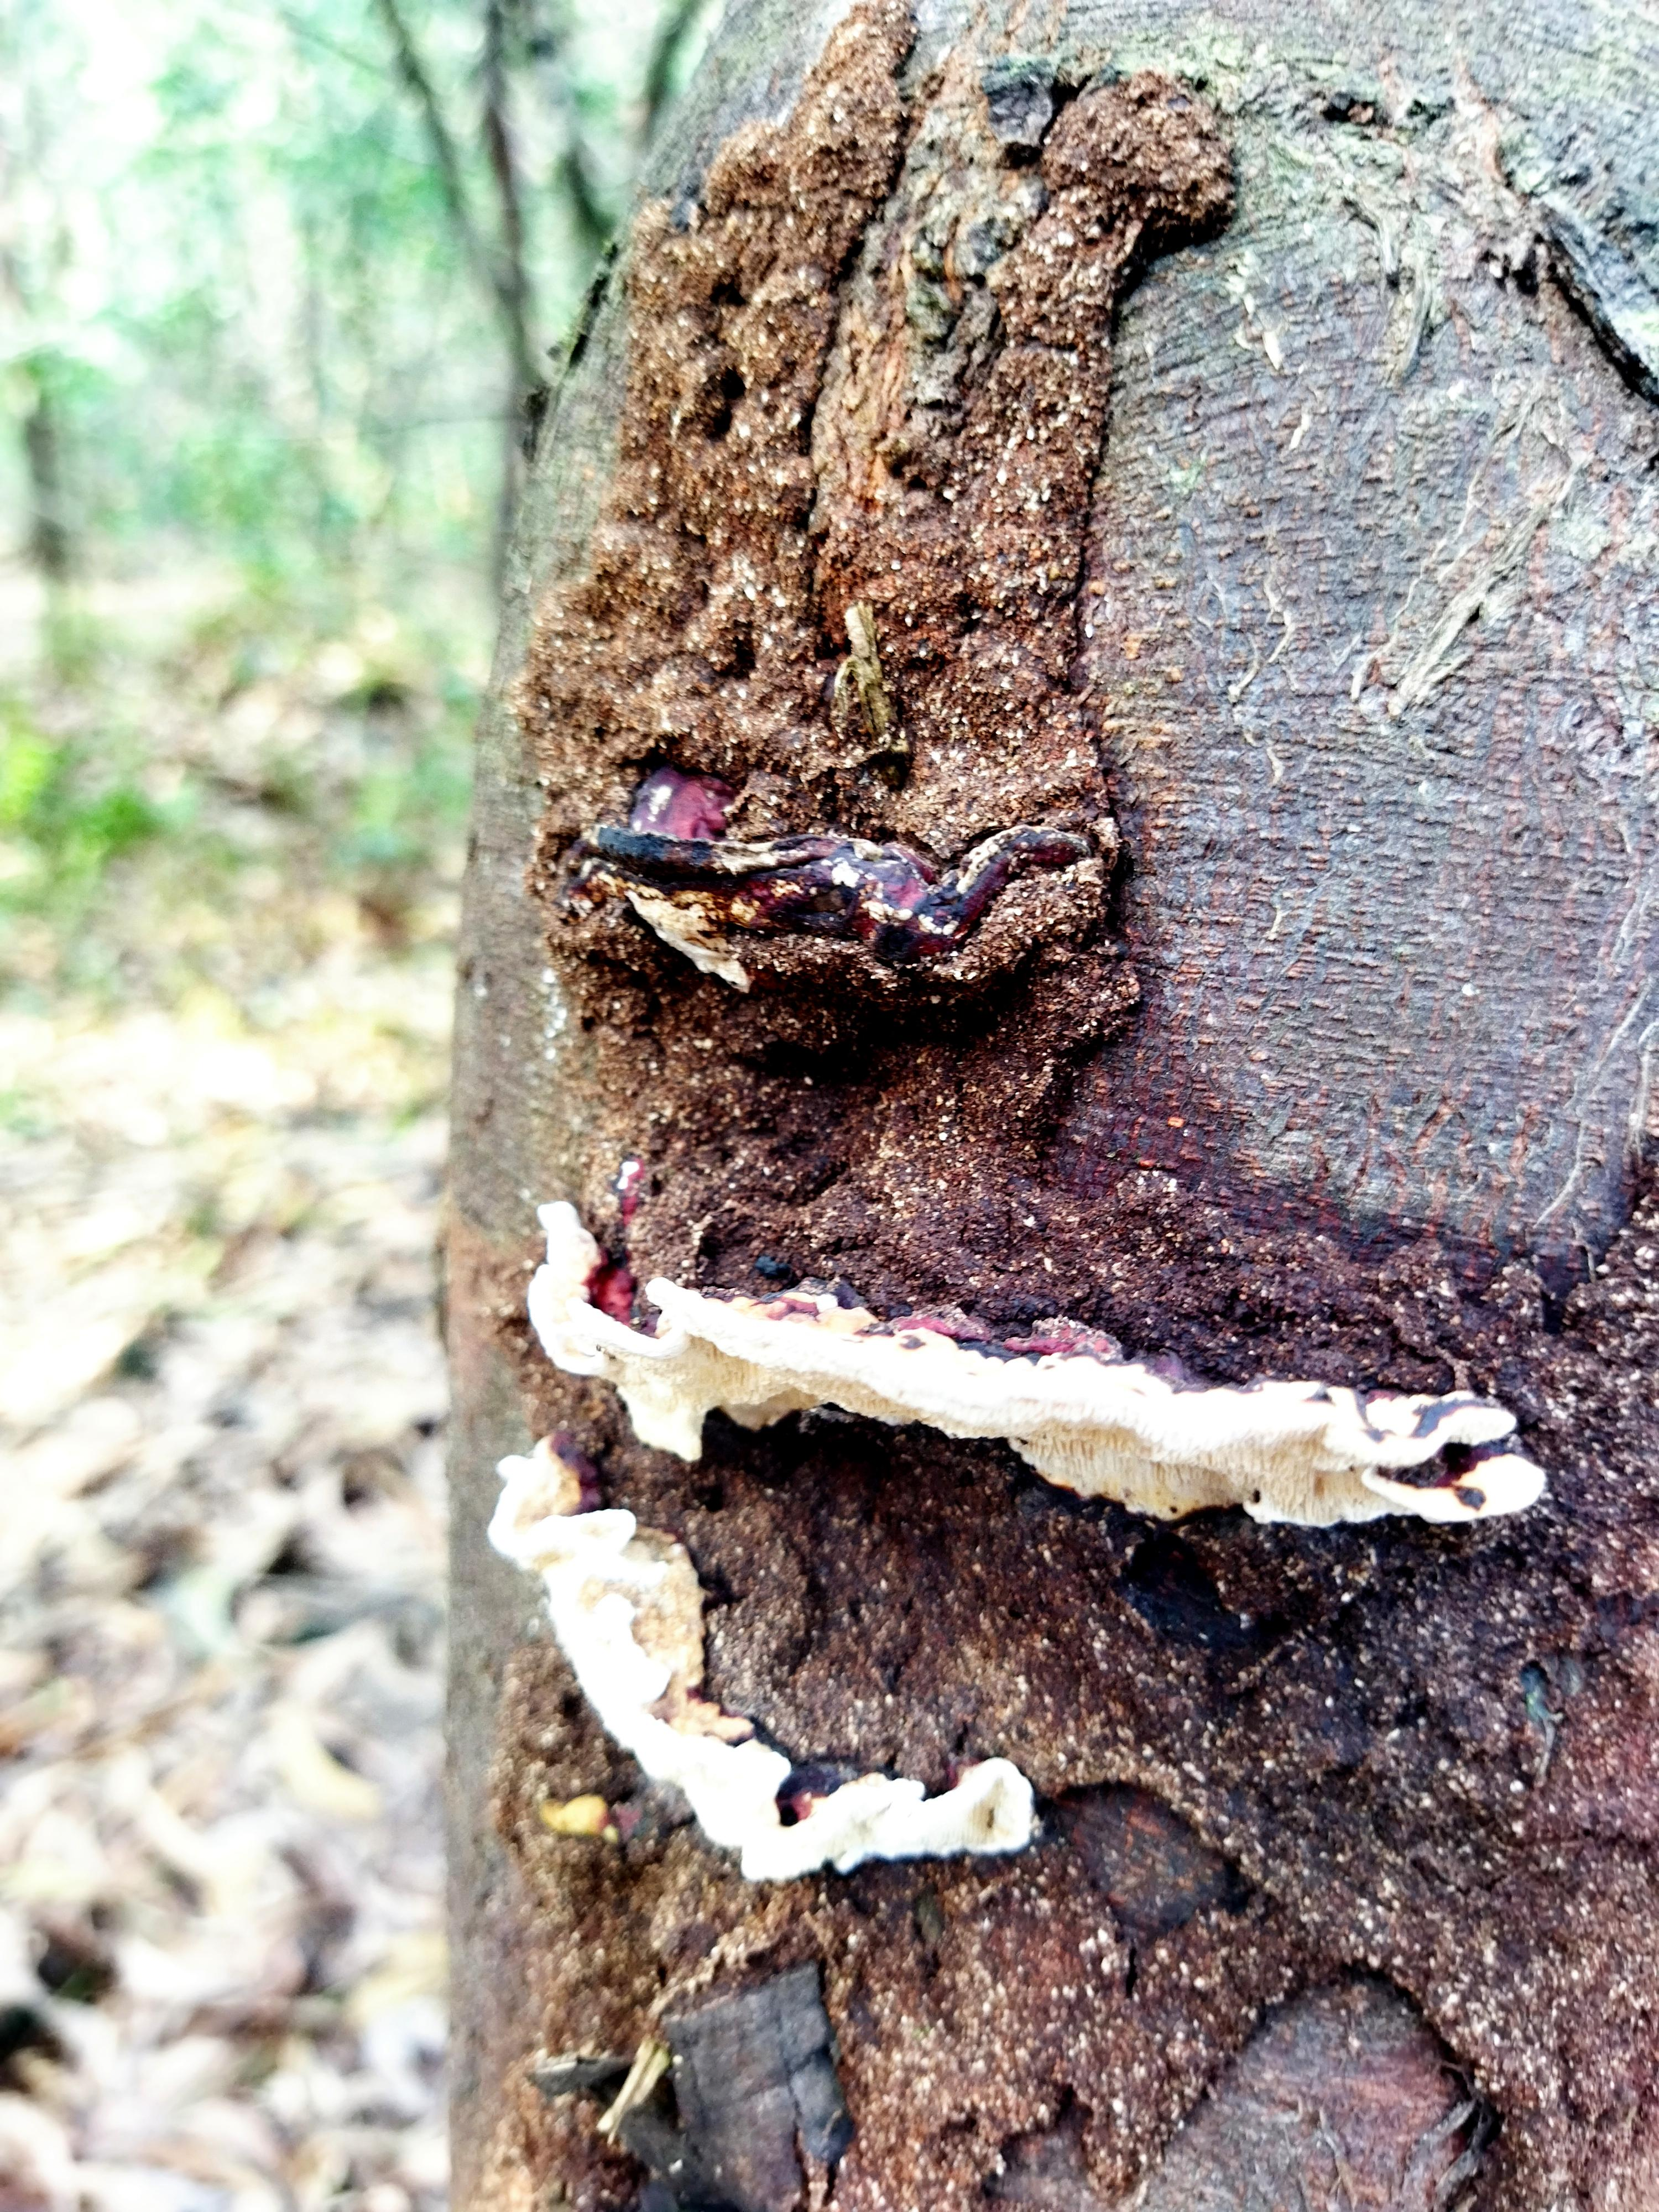Ganoderma - Fruit Body: (504, 1141, 1549, 1526), (450, 1395, 1049, 1939), (610, 786, 1187, 1000)
